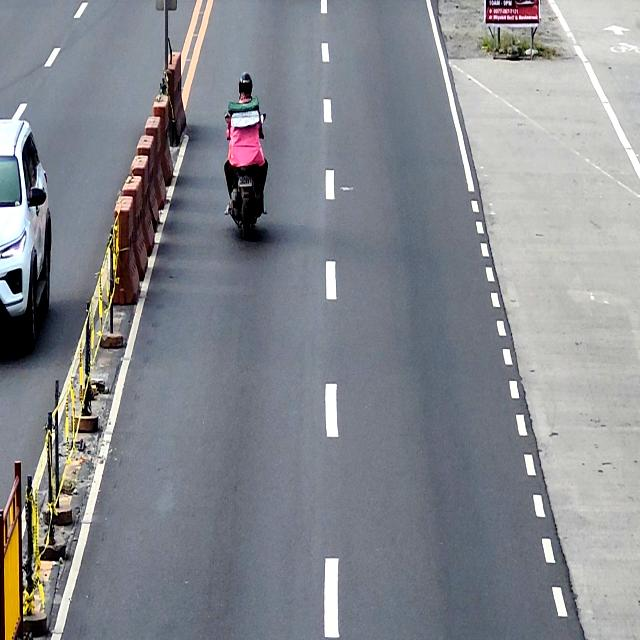Car: (0, 114, 52, 351)
License-Plate: (238, 174, 252, 187)
Motorcycle: (224, 109, 268, 241)
